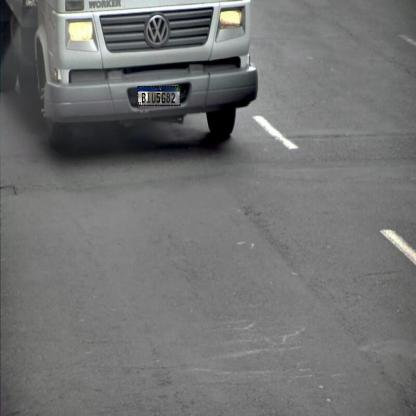PlacaM: (138, 86, 180, 106)
